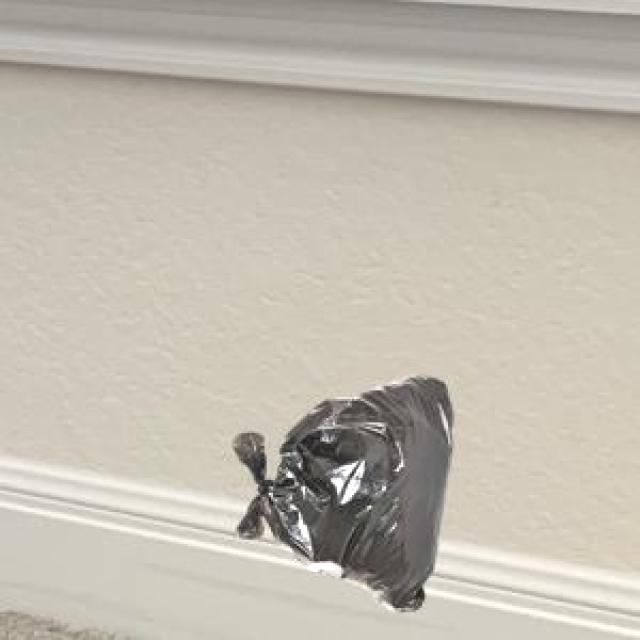Trashbag: (226, 372, 460, 623)
